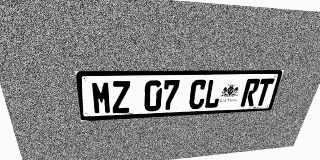0: (144, 80, 162, 112)
7: (161, 80, 180, 111)
C: (188, 79, 208, 109)
L: (203, 79, 223, 109)
M: (91, 81, 112, 114)
R: (240, 79, 261, 107)
T: (253, 78, 275, 106)
Z: (111, 81, 130, 113)
